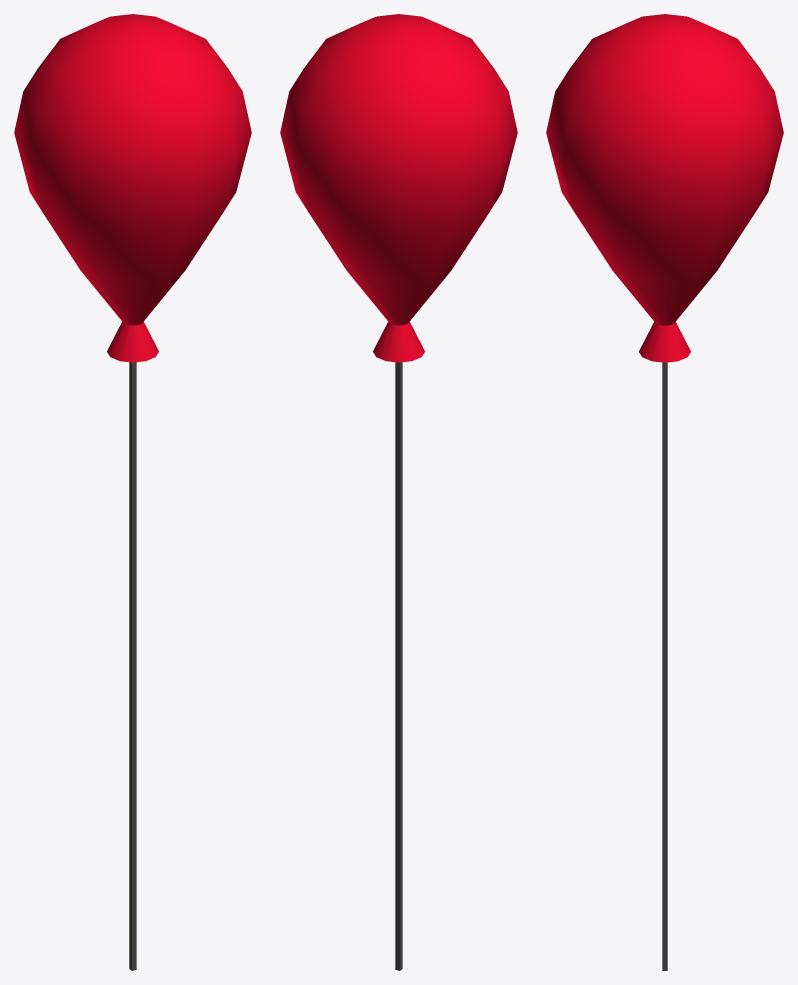
File: Balloon.fbx
3 renders of one model, left to right at view 1: azimuth 30°, elevation 25°; view 2: azimuth 150°, elevation 25°; view 3: azimuth 270°, elevation 25°, orthographic.
Parts seen in each view (by area): view 1: Balloon, String; view 2: Balloon, String; view 3: Balloon, String.
Part boxes in pixels (box(x1,y1,x2,y2)): Balloon: box(14, 14, 251, 362); String: box(129, 362, 136, 970); Balloon: box(280, 14, 517, 362); String: box(395, 362, 402, 970); Balloon: box(546, 14, 783, 362); String: box(662, 362, 667, 970).
Size of the model in its own units: 60 by 263 by 60.
